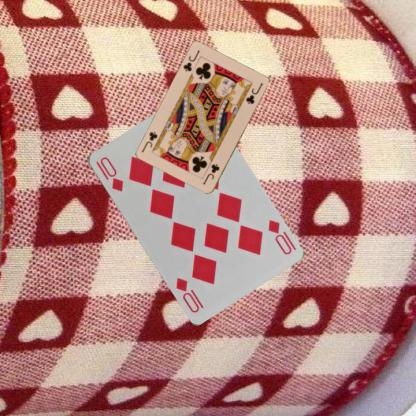10d: (92, 154, 124, 193), (265, 217, 293, 256)
Jc: (200, 160, 221, 186), (181, 47, 201, 73)
